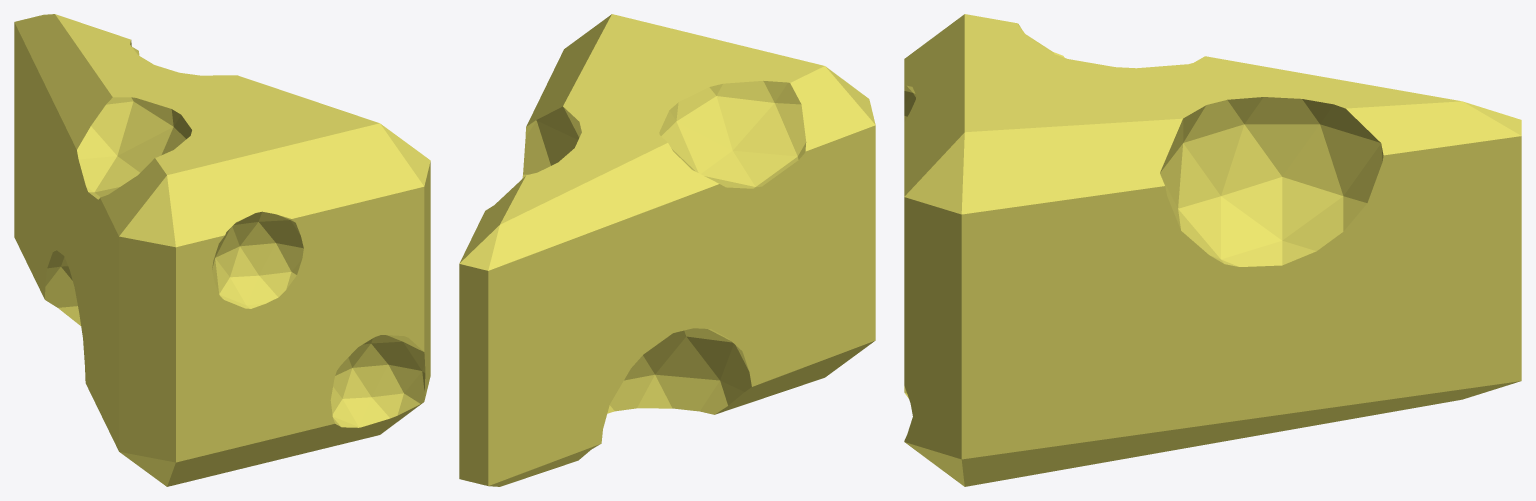
File: cheese.glb
3 views of the same model, side by side, from view 1: azimuth 30°, elevation 25°; view 2: azimuth 150°, elevation 25°; view 3: azimuth 270°, elevation 25° (orthographic). The views are drawn at different scales.
Parts seen in each view (by area): view 1: Circle; view 2: Circle; view 3: Circle.
Part boxes in pixels (left/top/right/bottom): Circle: left=14, top=14, right=430, bottom=486; Circle: left=459, top=14, right=875, bottom=486; Circle: left=904, top=14, right=1521, bottom=486.
Size of the model in its own units: 1.4 by 1.33 by 2.11.
